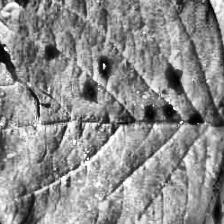Leaf Spot: (0, 0, 224, 224), (190, 0, 224, 142), (179, 127, 224, 224)
